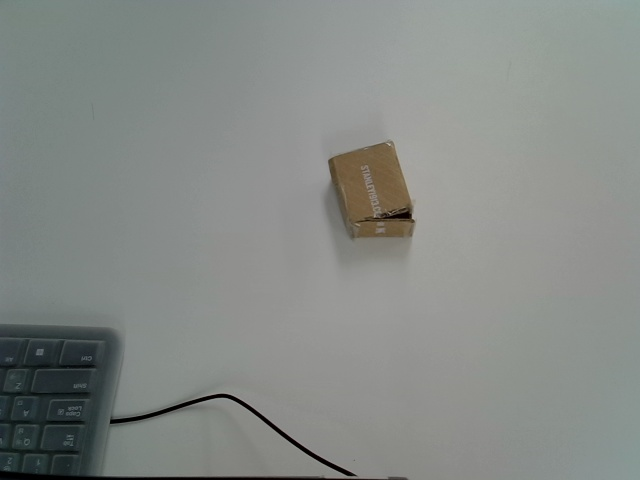defect: (328, 140, 423, 241)
